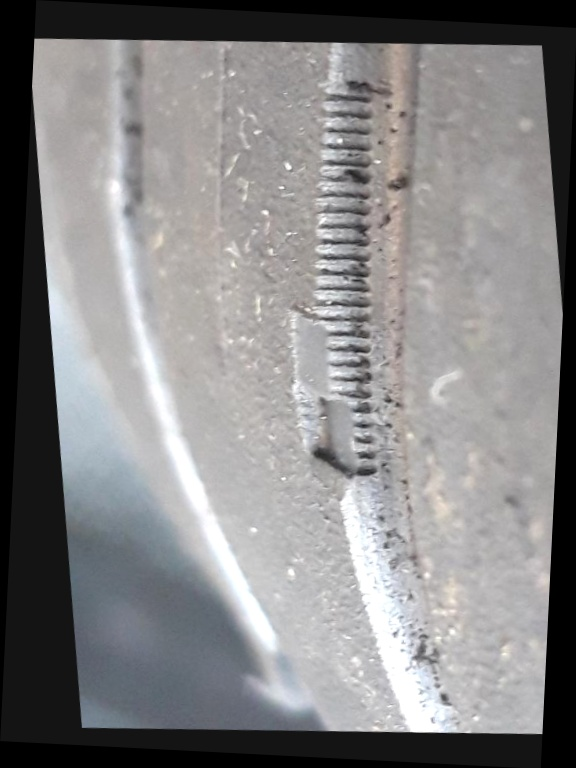temoin:25: (263, 285, 413, 510)
